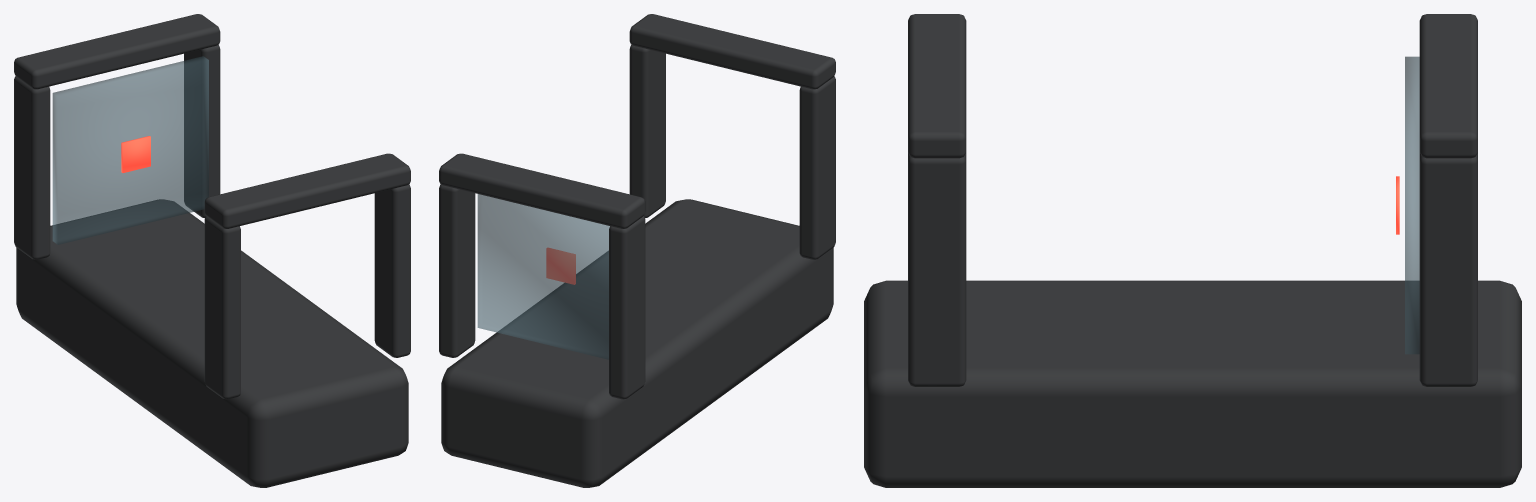
Rendered from holo.glb.
3 renders of one model, left to right at view 1: azimuth 30°, elevation 25°; view 2: azimuth 150°, elevation 25°; view 3: azimuth 270°, elevation 25°, orthographic. The views are drawn at different scales.
Visible parts, largest first — view 1: Base, Window, HoodTop.001, HoodTop, HoodPost.002, HoodPost, HoodPost.001, HoodPost.003, Ring; view 2: Base, Window, HoodTop, HoodTop.001, HoodPost, HoodPost.002, HoodPost.003, HoodPost.001, Ring; view 3: Base, HoodPost.001, HoodPost.003, HoodTop, HoodTop.001, Window.
Boxes of the visible parts, x1,y1,x2,y2 form: Base: (16,199,408,487); Window: (52,56,208,244); HoodTop.001: (14,14,220,89); HoodTop: (204,153,410,228); HoodPost.002: (14,76,50,259); HoodPost: (204,216,240,399); HoodPost.001: (374,184,410,357); HoodPost.003: (184,45,220,217); Ring: (121,136,150,172); Base: (441,199,833,487); Window: (477,194,609,359); HoodTop: (629,14,835,89); HoodTop.001: (439,153,645,228); HoodPost: (799,76,835,259); HoodPost.002: (609,216,645,399); HoodPost.003: (439,184,475,357); HoodPost.001: (629,45,665,217); Ring: (546,248,575,284); Base: (864,280,1521,487); HoodPost.001: (908,153,966,386); HoodPost.003: (1419,153,1477,386); HoodTop: (908,14,966,158); HoodTop.001: (1419,14,1477,158); Window: (1405,56,1419,354).
Bounding box in the file's own units: 0.04 × 0.056 × 0.09.
